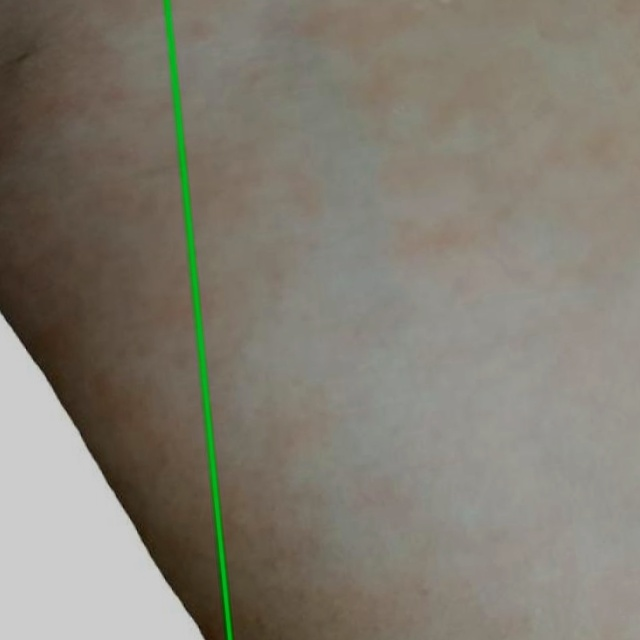Contact Dermatitis: (0, 0, 230, 639)
